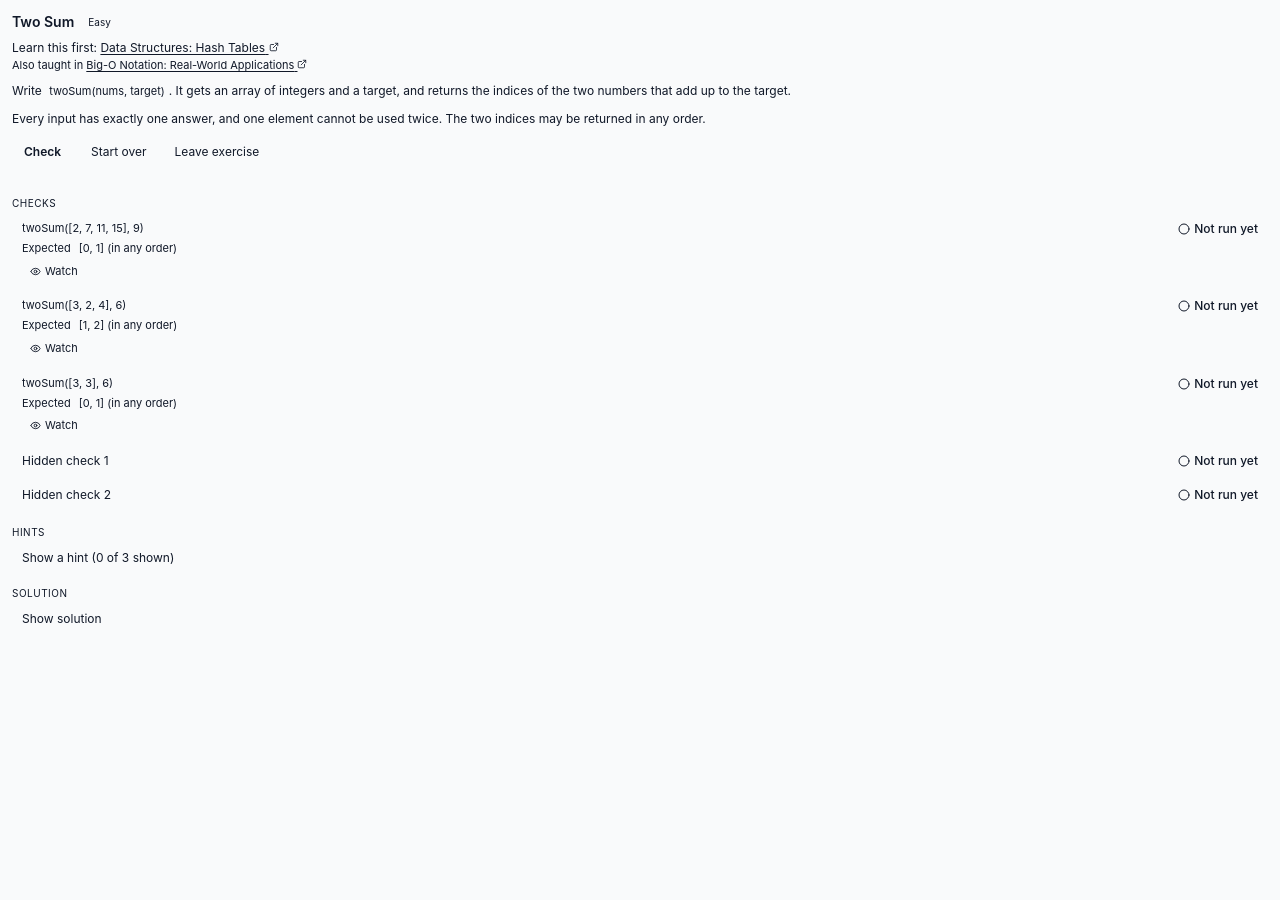
Test case: TaskPanel › the solution › is offered after the hints, and asks in the page before it is shown
Click the button "Show solution" at (62, 619), box [12,607,112,631]
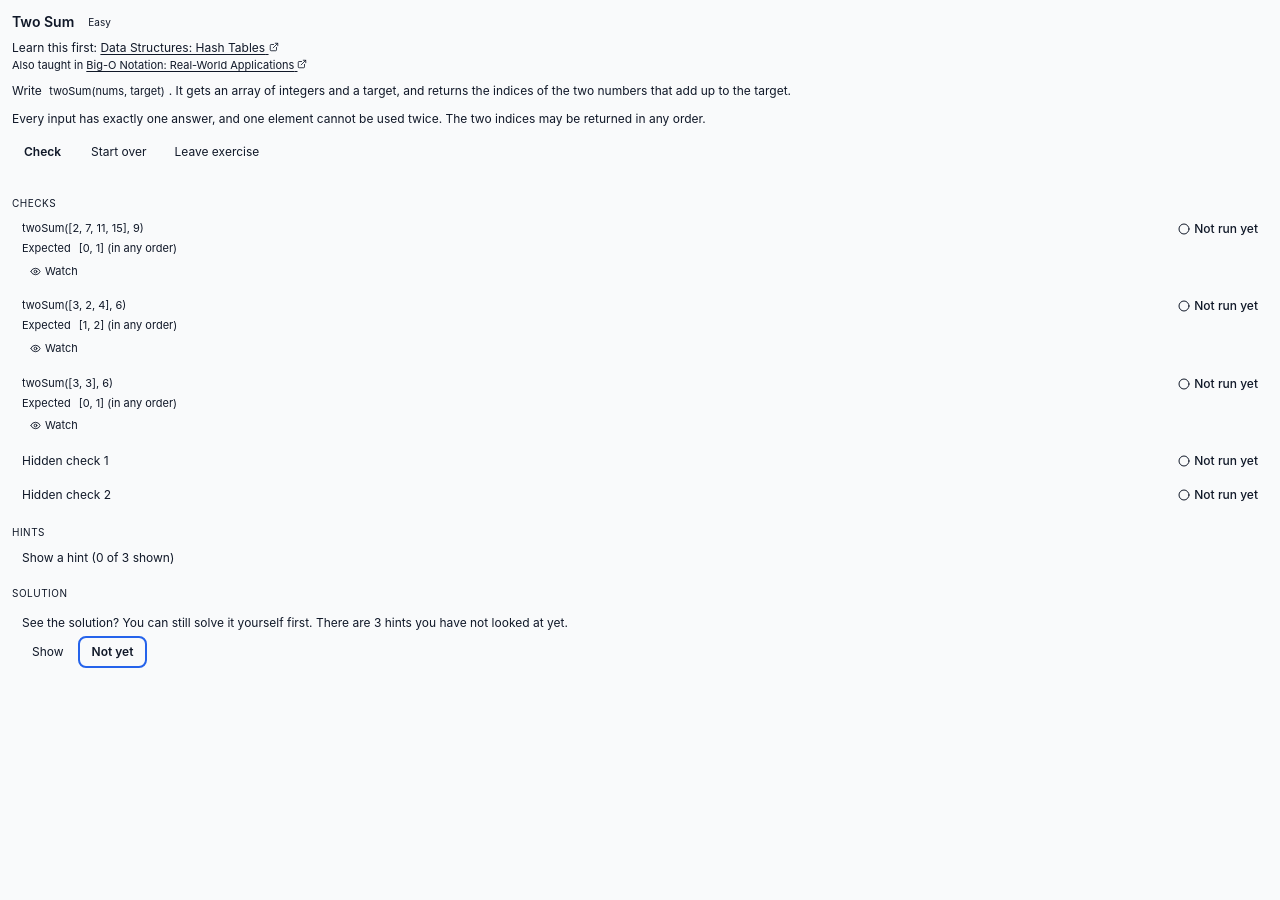
expect the button "Show" is shown: met, box [22,640,74,664]
expect the element "See the solution?" shows "See the solution? You can still solve it yourself first.": met, box [22,615,313,630]
